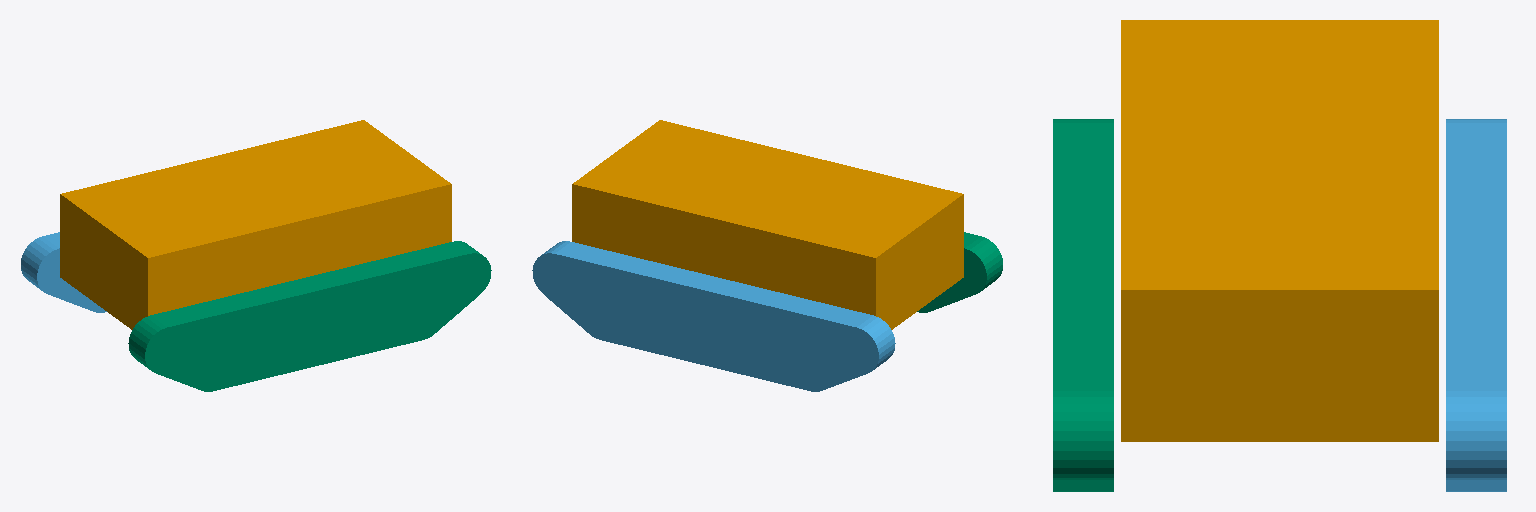
robot.urdf — acri_model:
<robot name="acri_model" xmlns:xacro="http://www.ros.org/wiki/xacro">
    <link name="base_link">
        <inertial>
            <origin xyz="0 0 0" rpy="1.5708 0 0" />
            <mass value="13.14" />
            <inertia ixx="0.10019" ixy="0.0" ixz="0.0" iyy="0.345043" iyz="0.0" izz="0.302044" />
        </inertial>
        <visual name='base_link_visual'>
            <origin xyz="0 0 0" rpy="0 0 0" />
            <geometry>
                <box size="1.9 0.95 0.5" />
            </geometry>
        </visual>
        <collision name='base_link_collision'>
            <origin xyz="0 0 0" rpy="0 0 0" />
            <geometry>
                <box size="1.9 0.95 0.5" />
            </geometry>
        </collision>
    </link>
    <link name='left_track'>
        <inertial>
            <origin xyz="0 0 0" rpy="0 0 0" />
            <mass value="6.06" />
            <inertia ixx="0.002731" ixy="0.0" ixz="0.0" iyy="0.032554" iyz="1.5e-05" izz="0.031391" />
        </inertial>
        <!--
        <visual name='left_track_visual_0'>
            <origin xyz="0 0 0" rpy="1.5708 -0 1.5708" />
            <geometry>
                <box>
                  <size>0.18 0.243 1.32407</size>
                </box>
              </geometry>
        </visual>
        <visual name='left_track_visual_1'>
            <origin xyz="0.662037 0 0" rpy="1.5708 -0 0" />
            <geometry>
                <cylinder>
                  <length>0.18</length>
                  <radius>0.1215</radius>
                </cylinder>
            </geometry>
        </visual>
        <visual name='left_track_visual_2'>
            <origin xyz="-0.662037 0 0" rpy="1.5708 -0 0" />
            <geometry>
                <cylinder>
                  <length>0.18</length>
                  <radius>0.1215</radius>
                </cylinder>
            </geometry>
        </visual>
        <visual name='left_track_visual_3'>
            <origin xyz="-0.945 0 0.1885" rpy="1.5708 -0 0" />
            <geometry>
                <cylinder>
                  <length>0.18</length>
                  <radius>0.139</radius>
                </cylinder>
              </geometry>
        </visual>
        <visual name='left_track_visual_4'>
            <origin xyz="0.945 0 0.1885" rpy="1.5708 -0 0" />
            <geometry>
                <cylinder>
                  <length>0.18</length>
                  <radius>0.139</radius>
                </cylinder>
              </geometry>
        </visual>
        <visual name='left_track_visual_5'>
            <origin xyz="-0.839022 0 0.034503" rpy="1.5708 0.536163 0" />
            <geometry>
                <box>
                  <size>0.339549 0.1215 0.18</size>
                </box>
              </geometry>
        </visual>
        <visual name='left_track_visual_6'>
            <origin xyz="0.839022 0 0.034503" rpy="1.5708 -0.536163 0" />
            <geometry>
                <box>
                  <size>0.339549 0.1215 0.18</size>
                </box>
              </geometry>
        </visual>
        <visual name='left_track_visual_7'>
            <origin xyz="0 0 0.1885" rpy="1.5708 -0 0" />
            <geometry>
                <box>
                    <size>1.89 0.278 0.18</size>
                </box>
              </geometry>
        </visual>
    -->
        <visual name='left_track_visual'>
            <origin xyz="0 0 0" rpy="0 0 0" />
            <geometry>
                <mesh filename="package://acri_description/meshes/Rigid Treads v1.stl" />
            </geometry>
        </visual>
        <collision name='left_track_collision'>
            <origin xyz="0 0 0" rpy="0 0 0" />
            <geometry>
                <mesh filename="package://acri_description/meshes/Rigid Treads v1.stl" />
            </geometry>
        </collision>
    </link>

    <gazebo reference="left_track">
        <mu>0.7</mu>
        <mu2>150</mu2>
        <fdir1>0 1 0</fdir1>
        <selfCollide>false</selfCollide>
    </gazebo>

    <joint name="left_track_j" type="fixed">
        <parent link="base_link" />
        <child link="left_track" />
        <origin xyz="0 0.585 -0.2255" rpy="0 0 1.5708" />
    </joint>
    <link name='right_track'>
        <inertial>
            <origin xyz="0 0 0" rpy="0 0 0" />
            <mass value="6.06" />
            <inertia ixx="0.002731" ixy="0.0" ixz="0.0" iyy="0.032554" iyz="1.5e-05" izz="0.031391" />
        </inertial>
        <visual name='right_track_visual'>
            <origin xyz="0 0 0" rpy="0 0 0" />
            <geometry>
                <mesh filename="package://acri_description/meshes/Rigid Treads v1.stl" />
            </geometry>
        </visual>
        <collision name='right_track_collision'>
            <origin xyz="0 0 0" rpy="0 0 0" />
            <geometry>
                <mesh filename="package://acri_description/meshes/Rigid Treads v1.stl" />
            </geometry>
        </collision>
    </link>
    <joint name="right_track_j" type="fixed">
        <parent link="base_link" />
        <child link="right_track" />
        <origin xyz="0 -0.585 -0.2255" rpy="0 0 1.5708" />
    </joint>
    <gazebo reference="right_track">
        <mu>0.7</mu>
        <mu2>150</mu2>
        <fdir1>0 1 0</fdir1>
        <selfCollide>false</selfCollide>
    </gazebo>
    <gazebo reference="left_track_j">
        <preserveFixedJoint>true</preserveFixedJoint>
    </gazebo>
    <gazebo reference="right_track_j">
        <preserveFixedJoint>true</preserveFixedJoint>
    </gazebo>
    <gazebo>
        <plugin name='simple_tracked_vehicle_ROS' filename='libSimpleTrackedVehiclePluginROS.so'>
            <body>base_link</body>
            <left_track>left_track</left_track>
            <right_track>right_track</right_track>
            <track_mu>2</track_mu>
            <track_mu2>0.5</track_mu2>
        </plugin>
    </gazebo>
</robot>

--- Render facts (derived) ---
Views: 3 orthographic renders of the robot side by side, from view 1: azimuth 30°, elevation 25°; view 2: azimuth 150°, elevation 25°; view 3: azimuth 270°, elevation 25°.
Model acri_model with 3 links and 2 joints (2 fixed), rooted at base_link, posed all joints at 0.
Links seen in each view (by area): view 1: base_link, right_track, left_track; view 2: base_link, left_track, right_track; view 3: base_link, left_track, right_track.
Link boxes in pixels (left/top/right/bottom): base_link: left=60, top=120, right=451, bottom=329; right_track: left=128, top=241, right=491, bottom=391; left_track: left=21, top=232, right=106, bottom=312; base_link: left=572, top=120, right=963, bottom=329; left_track: left=532, top=241, right=895, bottom=391; right_track: left=917, top=232, right=1002, bottom=312; base_link: left=1121, top=20, right=1438, bottom=441; left_track: left=1446, top=119, right=1506, bottom=491; right_track: left=1053, top=119, right=1113, bottom=491.
Bounding box of the posed robot: 2.17 × 1.35 × 0.7844 m (x, y, z).
2 mesh visuals loaded from 1 distinct referenced files (1 ASCII STL).